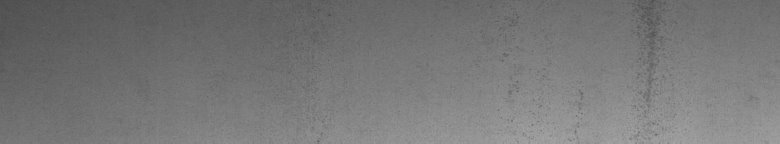ib: (499, 4, 667, 127)
